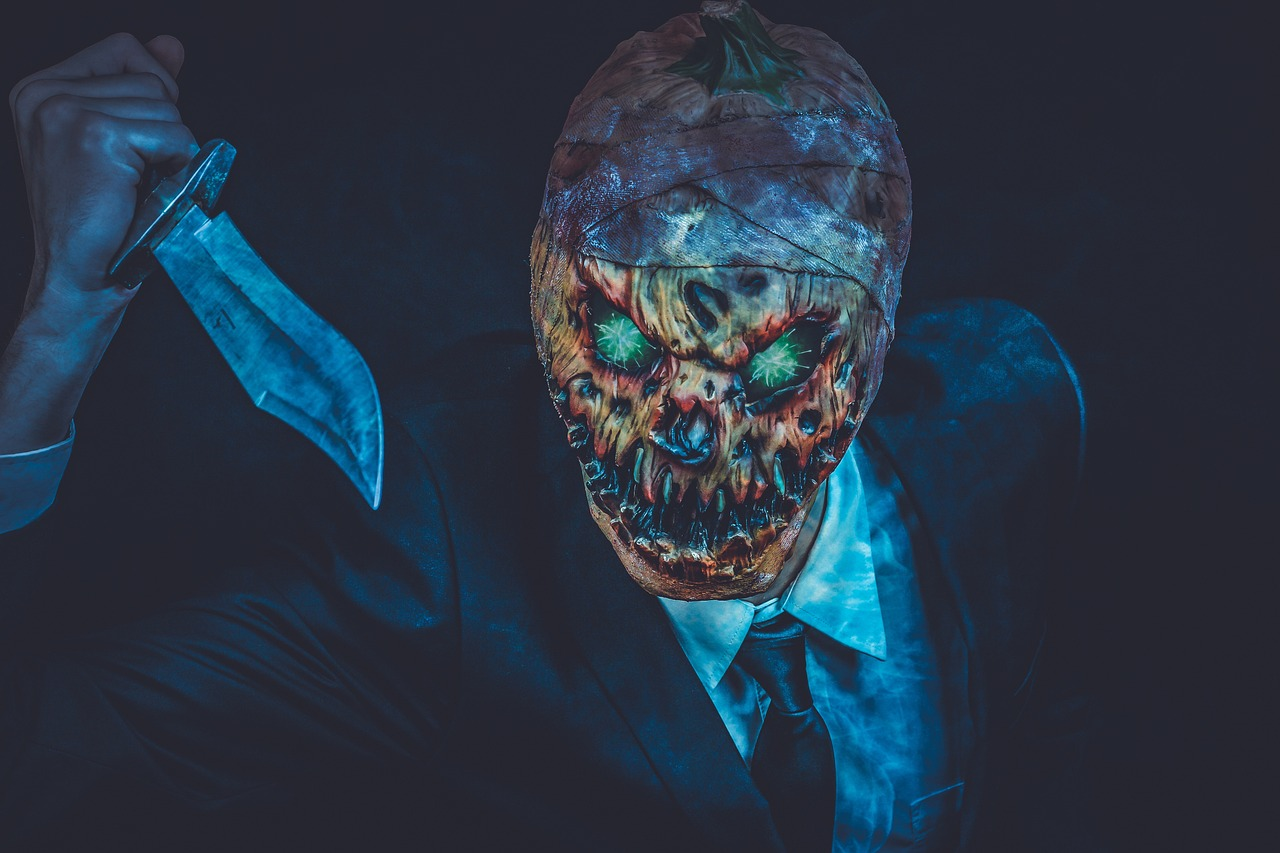knife: (104, 135, 388, 512)
